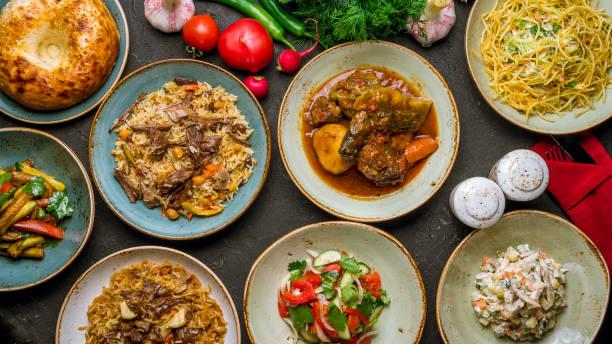Braised Crucian Carp: (276, 38, 456, 222), (88, 58, 266, 240), (434, 208, 606, 342), (242, 220, 423, 344), (464, 1, 610, 137), (55, 246, 235, 342), (2, 1, 129, 126)
